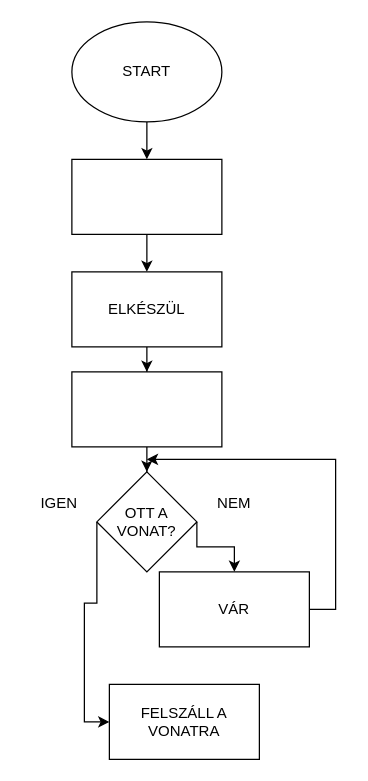
This 368x781 diagram has some shape labels left out. Here are the shapes that lost their labels. From the top down, the box of each, then its label:
(71, 158, 222, 234): FELÉBRED
(71, 371, 222, 447): ELINDUL VONATRA
